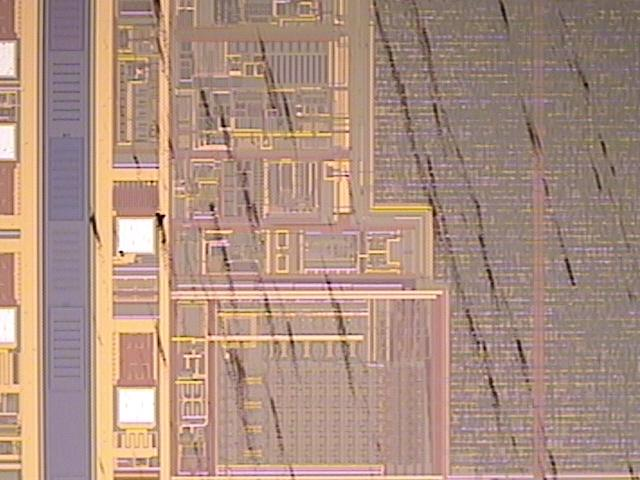SCRATCH: (79, 1, 640, 480)
